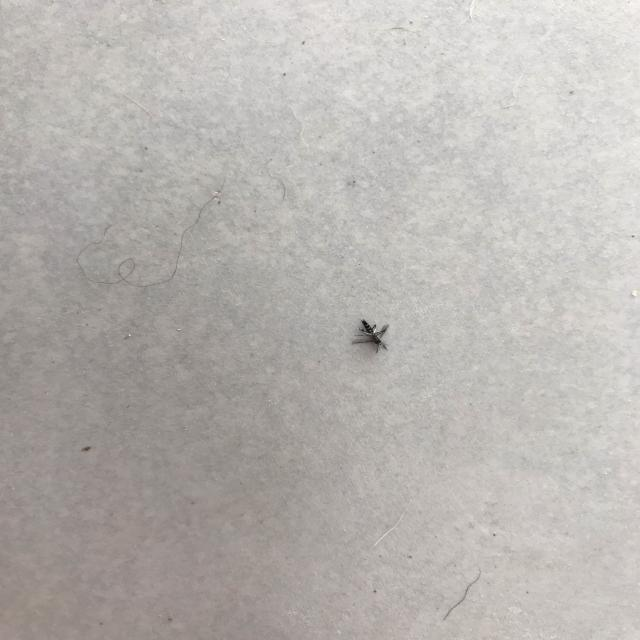albopictus: (343, 315, 396, 356)
